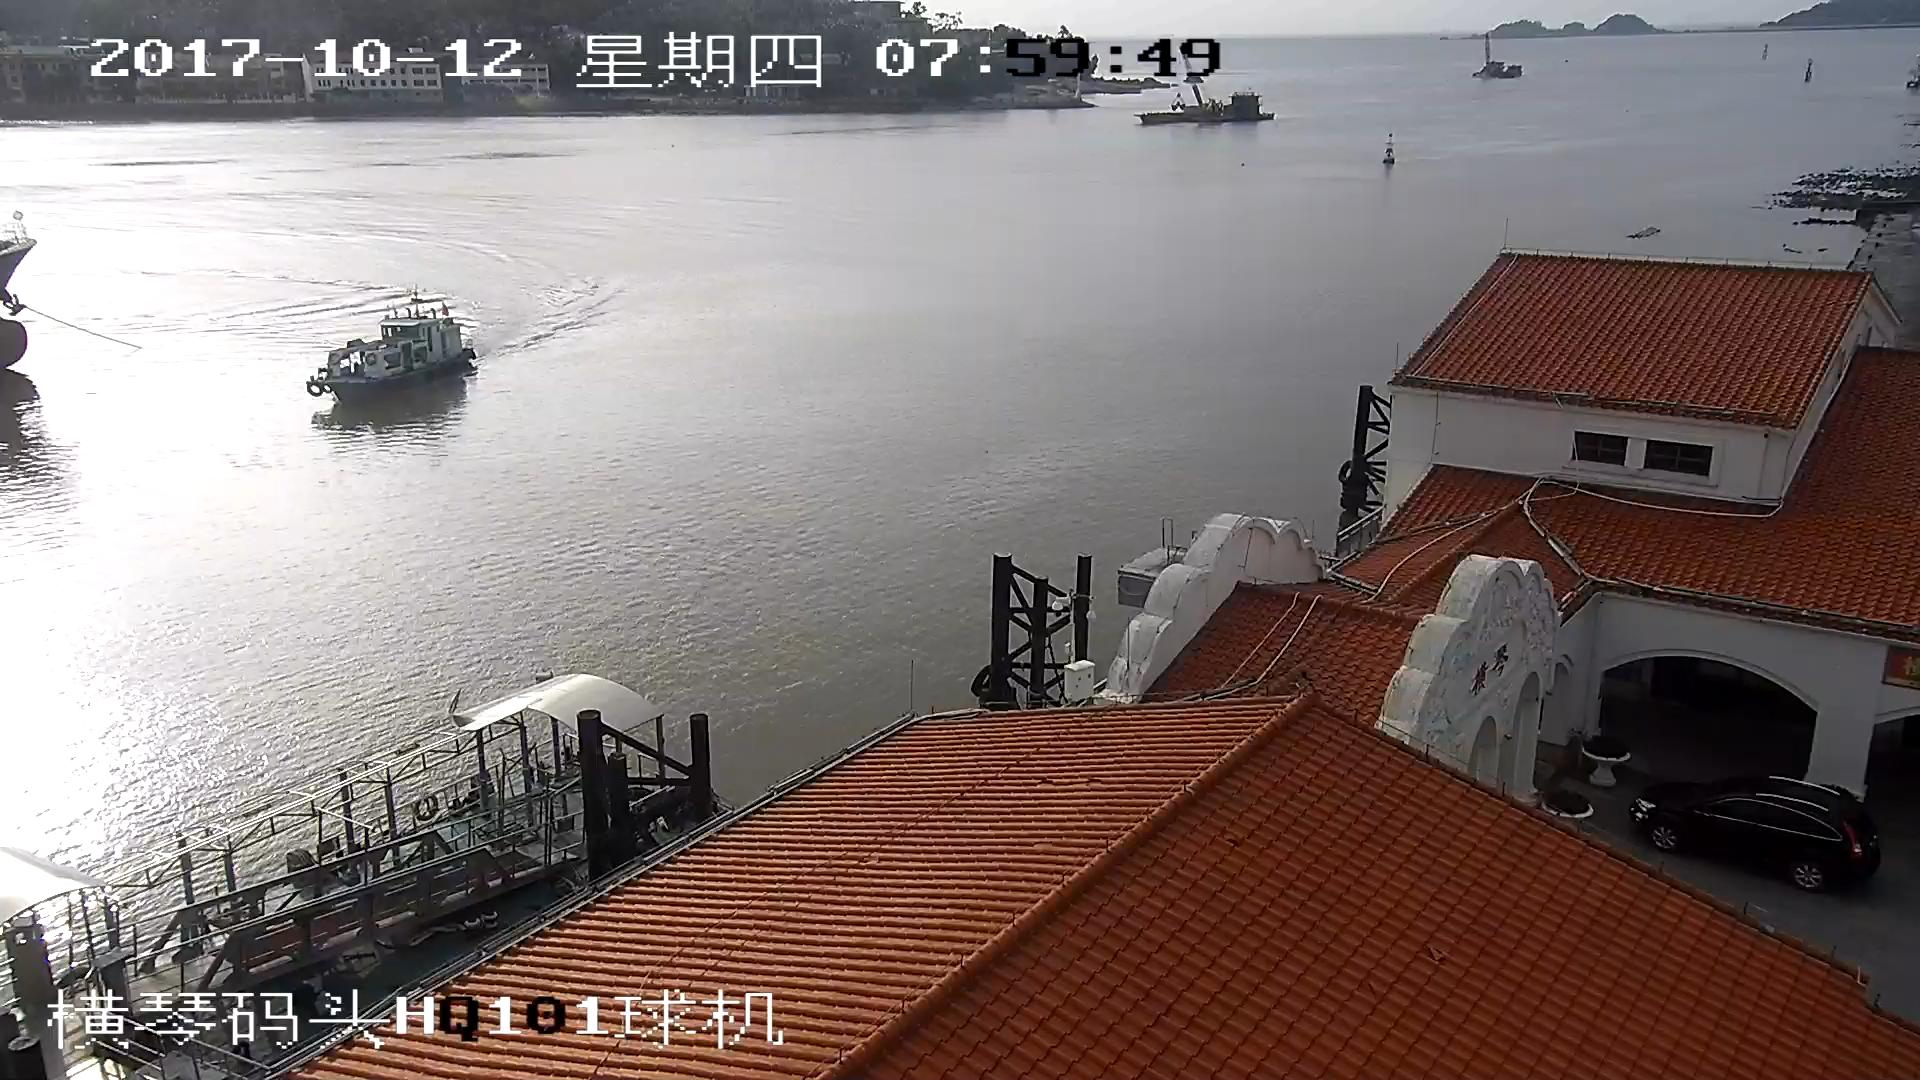fishing boat: (305, 304, 476, 394)
